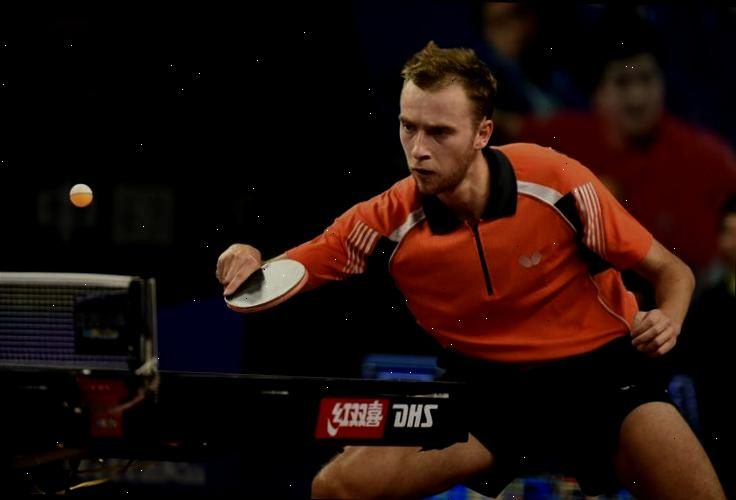ball: (62, 176, 98, 212)
